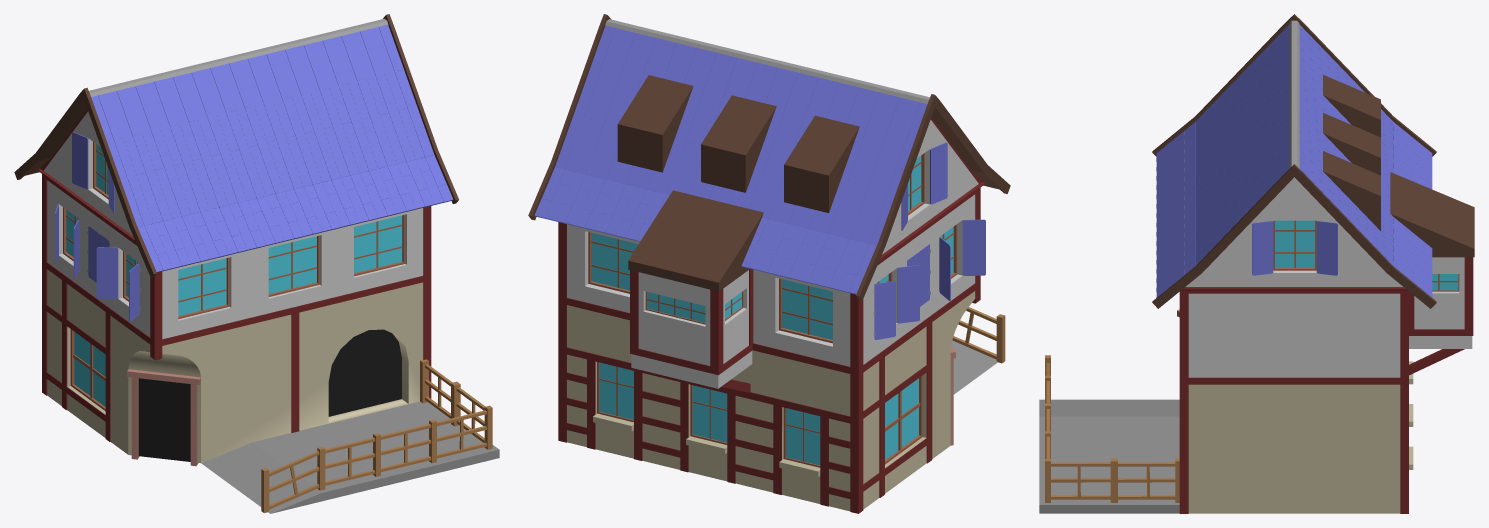
Rendered from SM_GerHouse.fbx.
The picture shows the model from 3 angles, left to right: view 1: azimuth 30°, elevation 25°; view 2: azimuth 150°, elevation 25°; view 3: azimuth 270°, elevation 25°; orthographic projection. The views are drawn at different scales.
Visible parts, largest first — view 1: Cube.047, Plane.008, Plane.009; view 2: Cube.047, Plane.008, Cube.052, Plane.009; view 3: Cube.047, Plane.008, Cube.052, Plane.009.
Boxes of the visible parts, left/top/right/bottom form: Cube.047: left=38, top=109, right=499, bottom=513; Plane.008: left=14, top=14, right=458, bottom=277; Plane.009: left=89, top=18, right=388, bottom=96; Cube.047: left=558, top=117, right=1005, bottom=513; Plane.008: left=528, top=14, right=1010, bottom=300; Cube.052: left=617, top=75, right=859, bottom=212; Plane.009: left=605, top=19, right=929, bottom=103; Cube.047: left=1039, top=172, right=1474, bottom=513; Plane.008: left=1152, top=14, right=1436, bottom=308; Cube.052: left=1323, top=74, right=1380, bottom=230; Plane.009: left=1289, top=20, right=1299, bottom=168.
Bounding box in the file's own units: 765 × 837 × 924.
